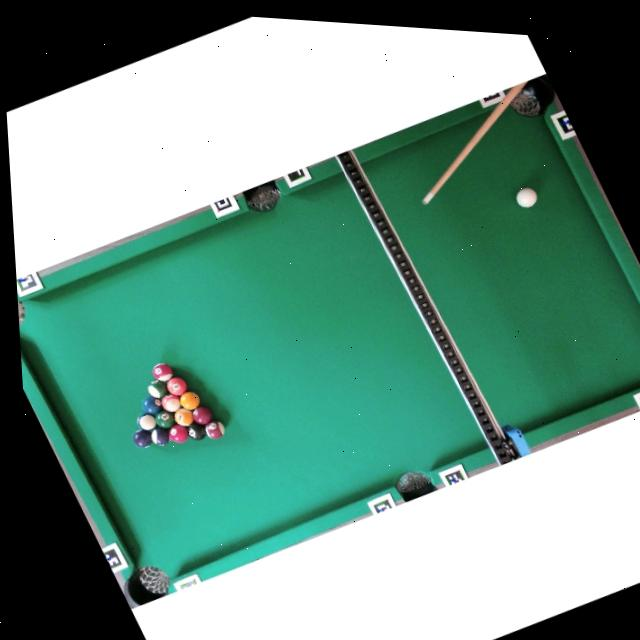cue ball: (512, 183, 542, 212)
other: (189, 402, 217, 429), (149, 359, 177, 386), (152, 406, 179, 433), (165, 420, 192, 447), (158, 390, 185, 417), (147, 423, 174, 450), (177, 388, 204, 415), (130, 425, 157, 452), (144, 376, 172, 402), (139, 392, 166, 418), (164, 373, 190, 400), (171, 404, 198, 430), (202, 417, 228, 443), (135, 409, 160, 434), (184, 419, 209, 444)
